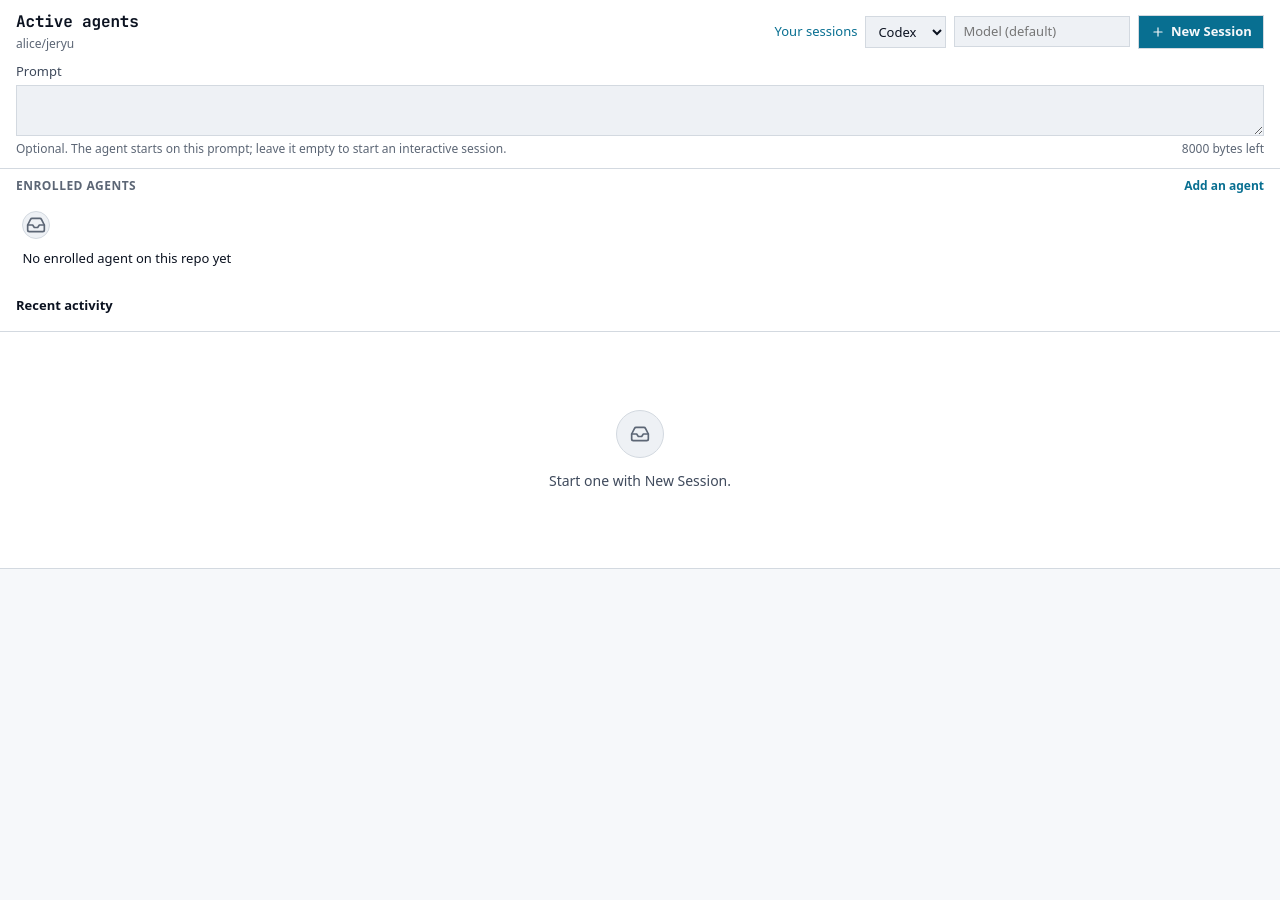
Test: RepositoryAgentsPage — New Session › starts the chosen provider with its model, from the providers a node runs
Select "Grok" in the dropdown with test id "new-session-agent": (906, 32) [865,16,946,48]
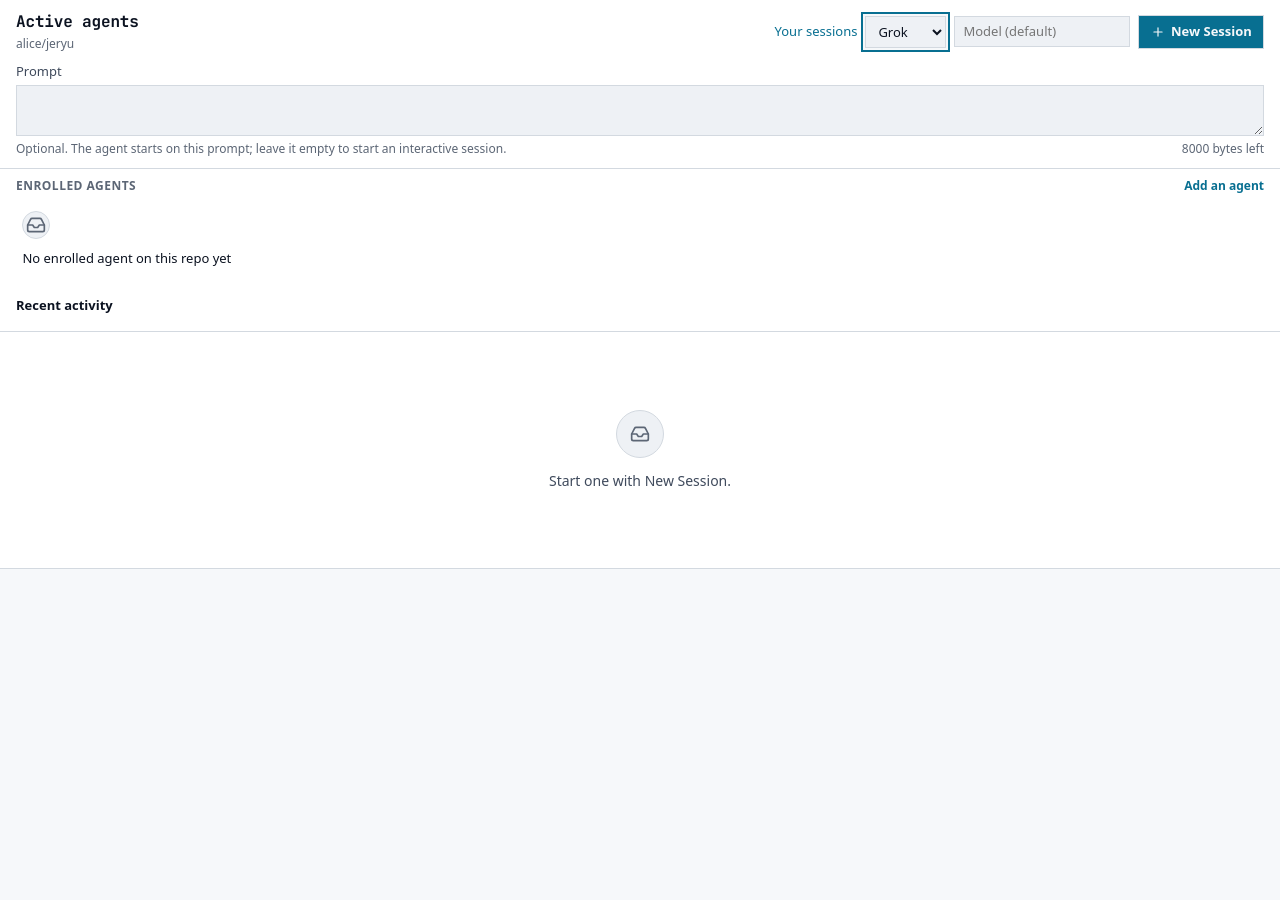
In the field with test id "new-session-model": (1042, 32) [954,16,1130,47], type "grok-4"
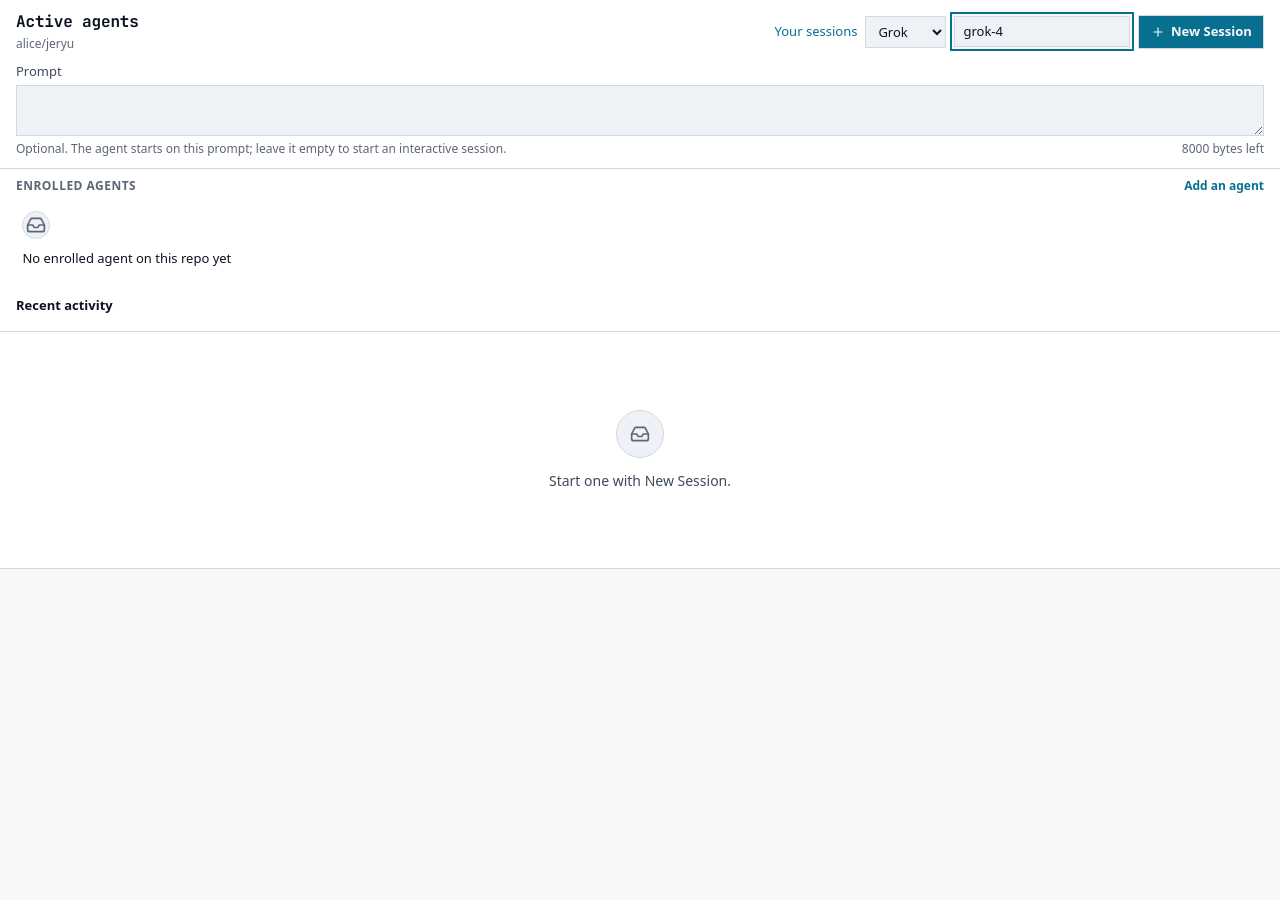
Click the button with test id "new-session-button": click(1201, 32) [1138,15,1264,49]
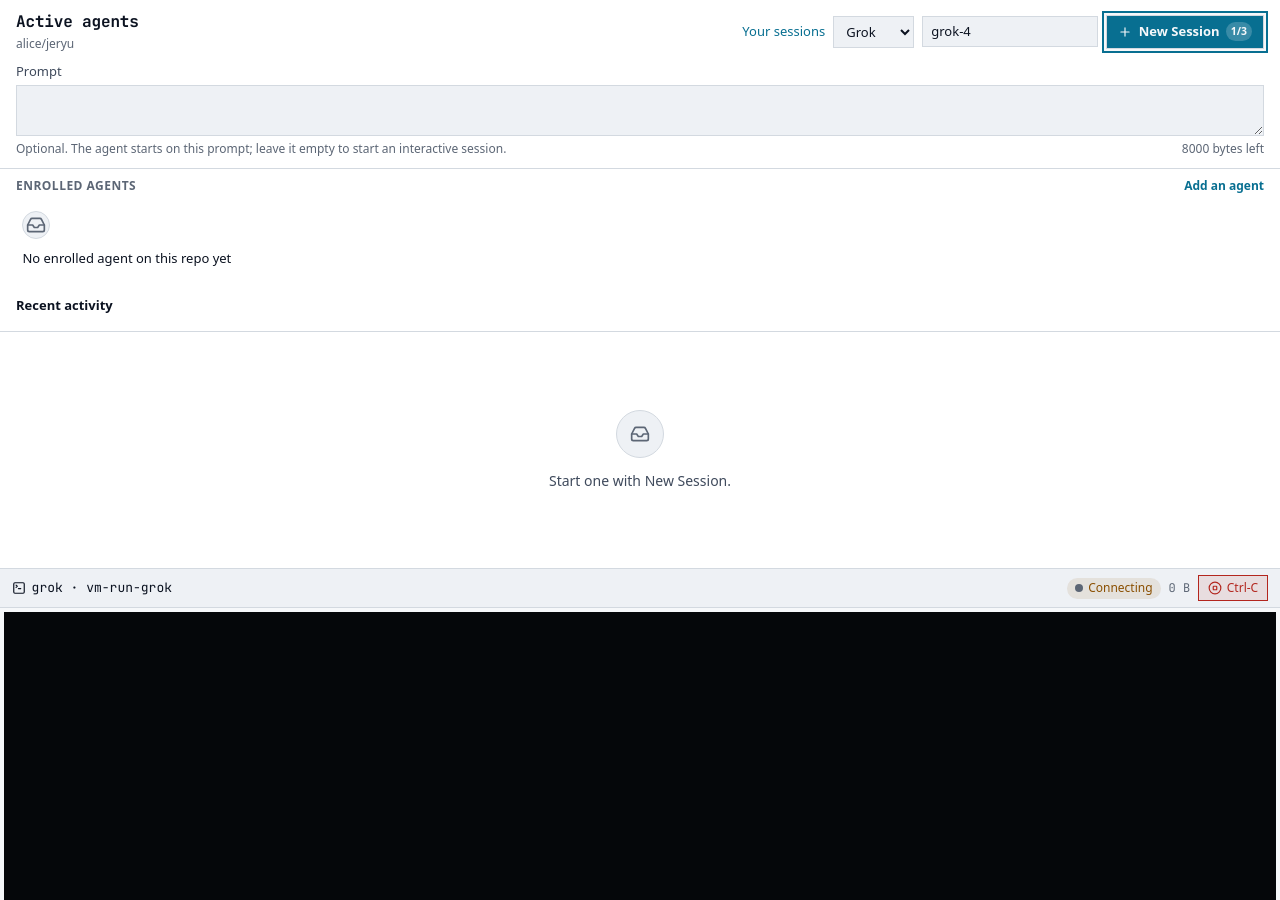
Check: the text "grok · vm-run-grok" is shown, box [12,578,172,598]
